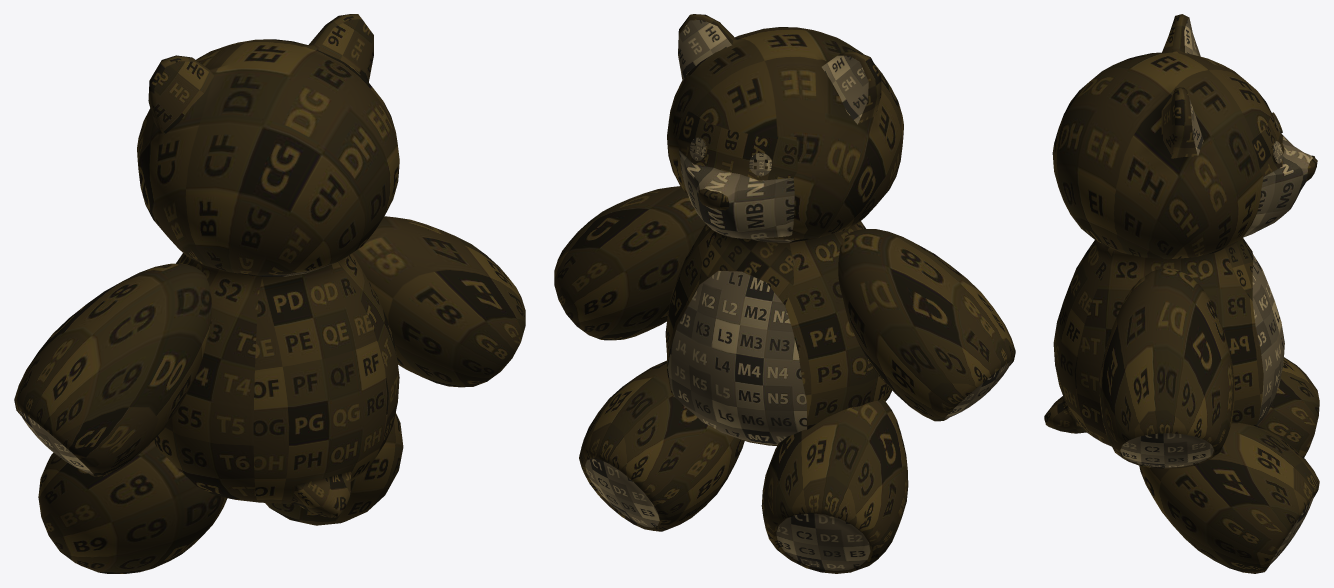
File: TeddyBearV4_06.fbx
The picture shows the model from 3 angles, left to right: view 1: azimuth 30°, elevation 25°; view 2: azimuth 150°, elevation 25°; view 3: azimuth 270°, elevation 25°; orthographic projection. The views are drawn at different scales.
Visible parts, largest first — view 1: Head_Torso, L_Arm, R_Arm, L_Leg, R_Leg; view 2: Head_Torso, L_Arm, L_Leg, R_Leg, R_Arm; view 3: Head_Torso, R_Arm, R_Leg, L_Leg.
Boxes of the visible parts, bbox=[...] form: Head_Torso: bbox=[137, 14, 399, 517]; L_Arm: bbox=[14, 263, 211, 476]; R_Arm: bbox=[352, 216, 525, 387]; L_Leg: bbox=[38, 441, 227, 573]; R_Leg: bbox=[265, 412, 403, 525]; Head_Torso: bbox=[665, 14, 903, 445]; L_Arm: bbox=[838, 229, 1015, 421]; L_Leg: bbox=[761, 400, 908, 573]; R_Leg: bbox=[579, 360, 744, 531]; R_Arm: bbox=[554, 186, 705, 340]; Head_Torso: bbox=[1044, 14, 1317, 446]; R_Arm: bbox=[1099, 268, 1235, 468]; R_Leg: bbox=[1139, 423, 1319, 573]; L_Leg: bbox=[1258, 357, 1319, 457].
Size of the model in its own units: 6.38 by 6.73 by 3.58.
Materials: 3 (3 with a texture image).
